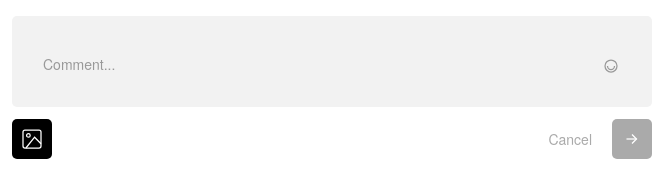
Test: CommentForm emoji › Escape closes the completer and a click on a suggestion completes it
Type ":s" into the text box named "Comment" at (332, 62), box [42,16,622,107]
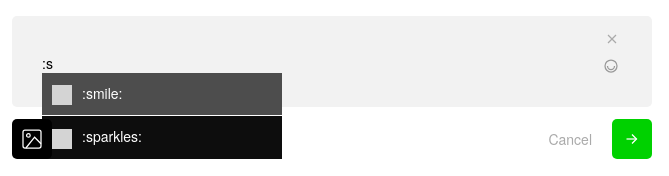
Expected: the number of buttons ":smile:" is 2, [42,73,282,115]; [42,115,282,159]
Press Escape
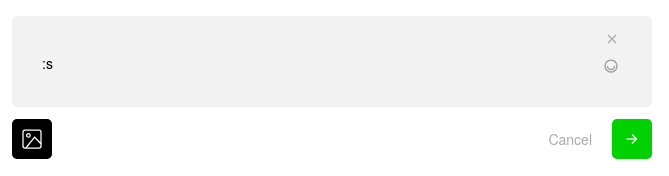
Expected: the button ":smile:" is gone
Type "p" into the text box named "Comment" at (332, 62), box [42,16,622,107]
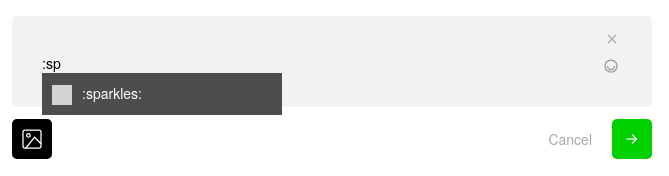
Click the button ":sparkles:" at (162, 94), box [42,73,282,115]
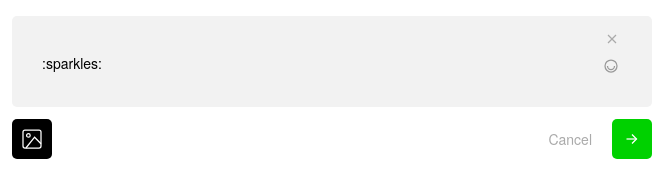
Expected: the text box named "Comment" holds ":sparkles:", [42,16,622,107]
